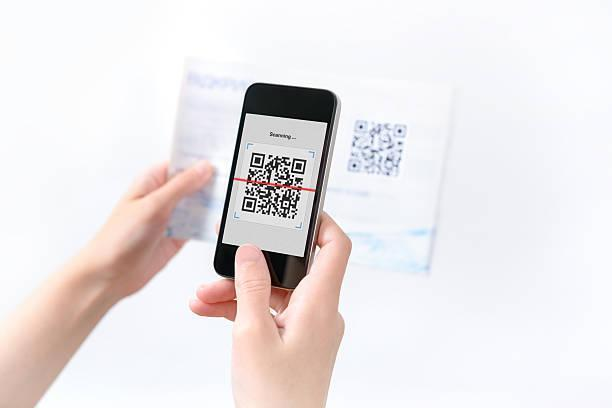qr_code: (242, 153, 307, 220), (347, 120, 407, 177)
